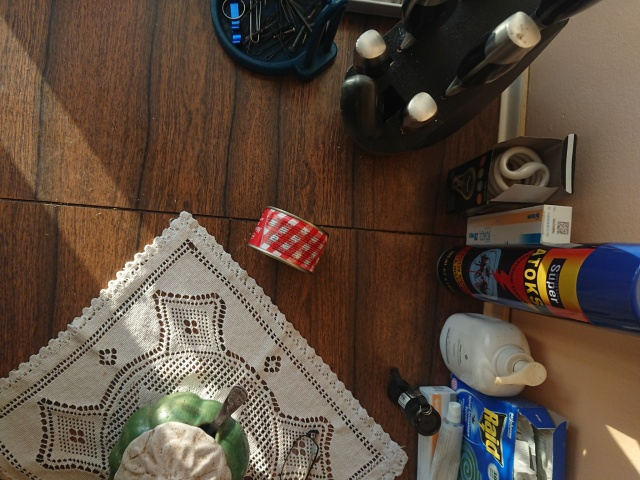Podravka Luncheon Meat 150g: (245, 203, 331, 277)
